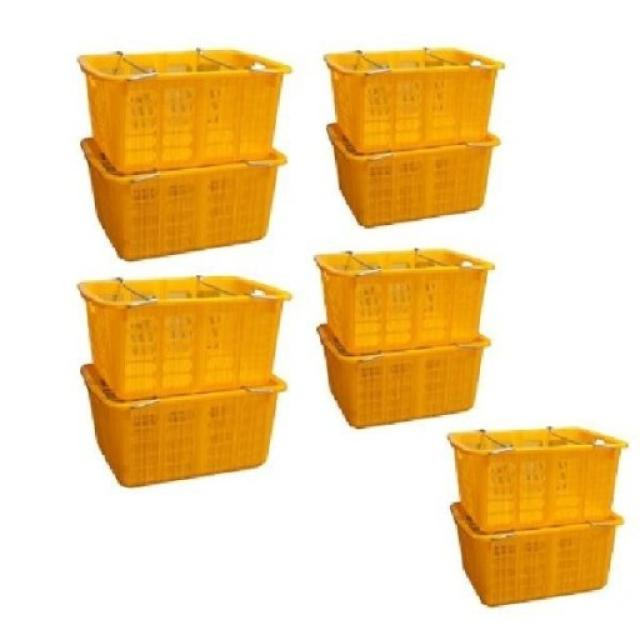basket: (446, 425, 629, 610), (77, 259, 300, 405), (81, 31, 301, 178), (74, 364, 287, 497), (75, 138, 287, 268), (322, 124, 502, 235), (314, 326, 492, 436), (317, 248, 498, 356), (327, 46, 507, 153)
